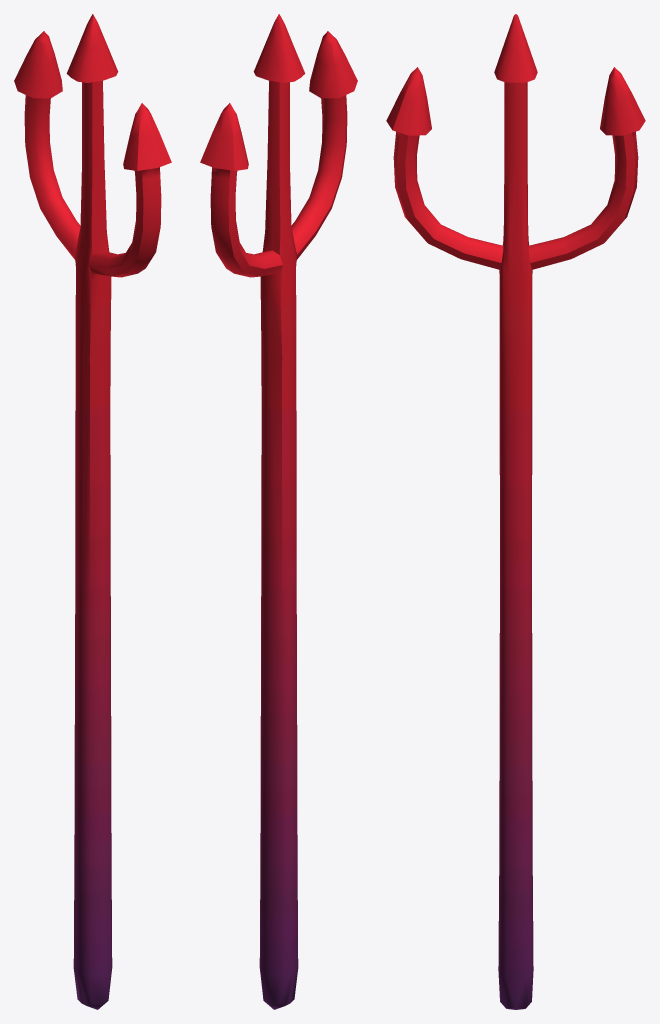
File: hell3.fbx
3 views of the same model, side by side, from view 1: azimuth 30°, elevation 25°; view 2: azimuth 150°, elevation 25°; view 3: azimuth 270°, elevation 25° (orthographic).
Visible parts, largest first — view 1: Cube_001_0; view 2: Cube_001_0; view 3: Cube_001_0.
Part boxes in pixels (x1=…): Cube_001_0: x1=14, y1=14, x2=171, y2=1009; Cube_001_0: x1=200, y1=14, x2=357, y2=1009; Cube_001_0: x1=386, y1=14, x2=645, y2=1009.
Bounding box in the file's own units: 0.372 × 7.98 × 1.88.
